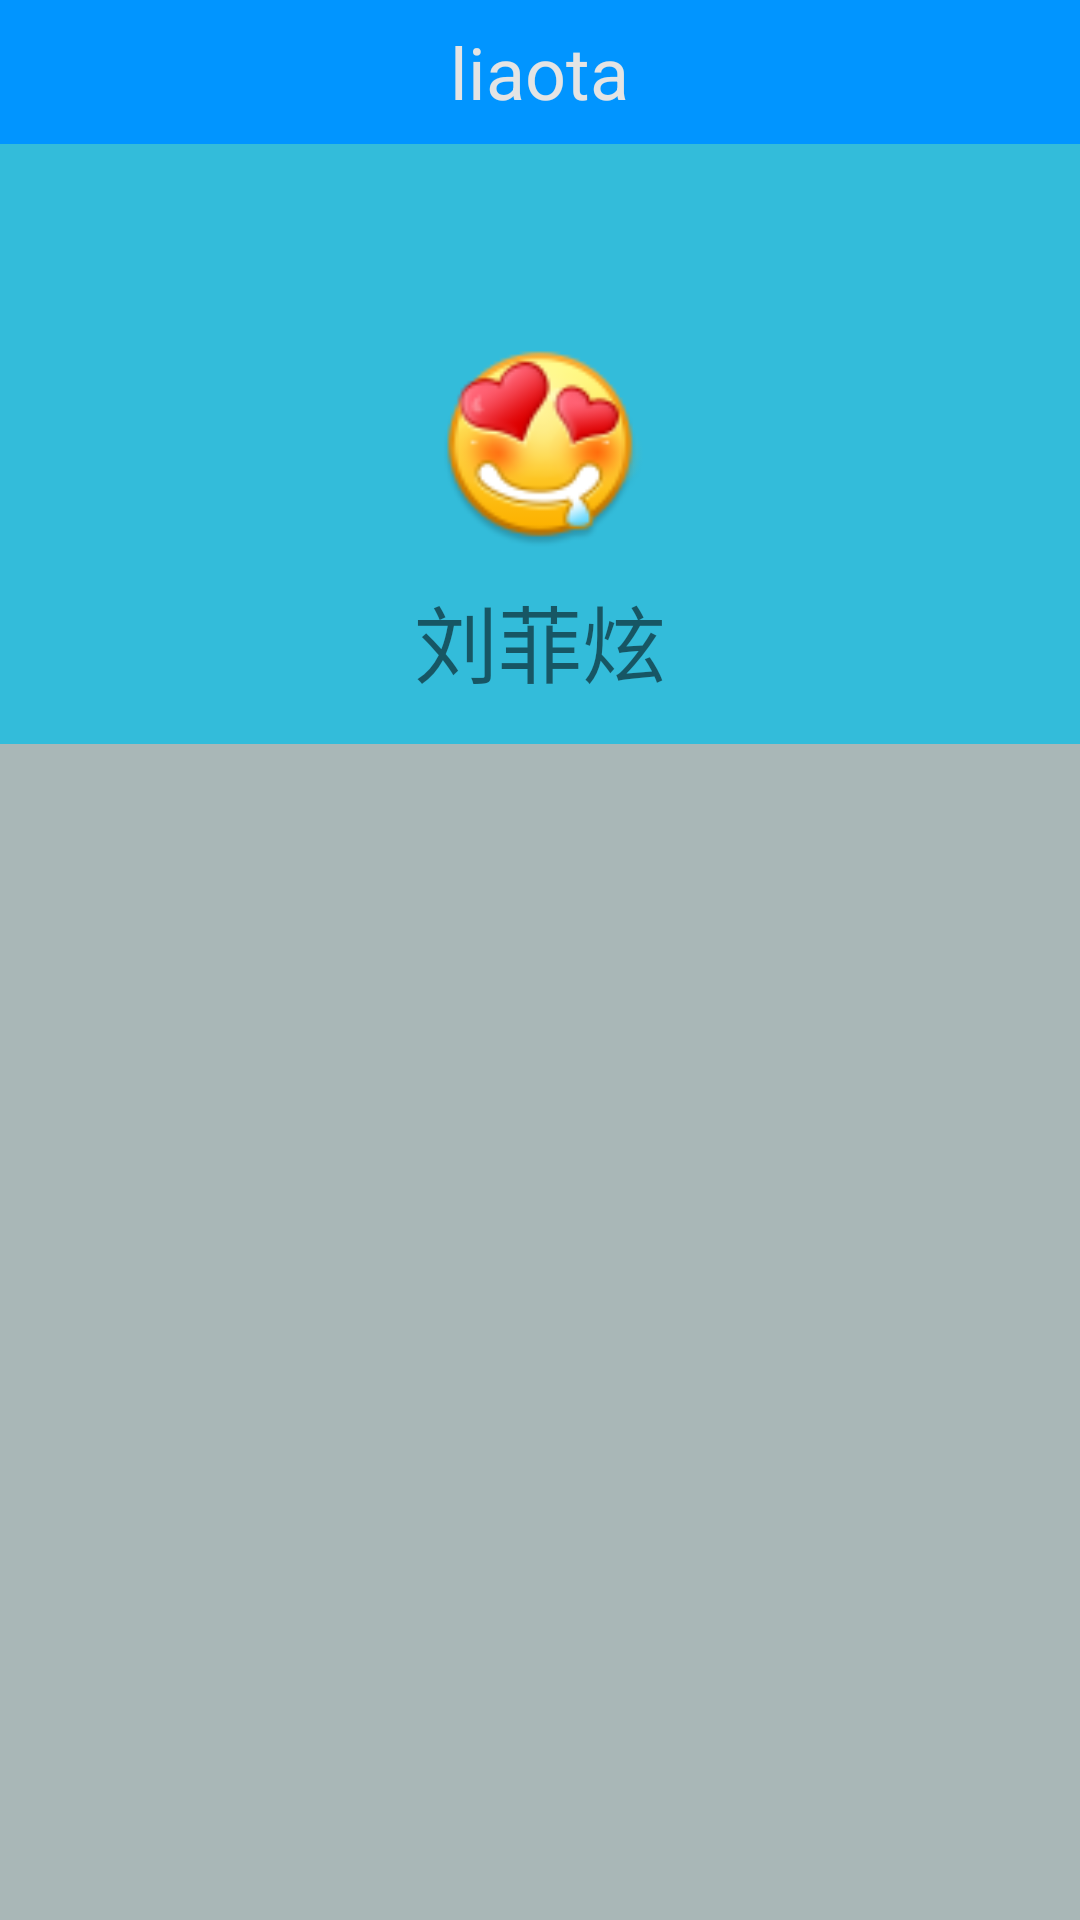

Icon bounding boxes for this 1080px x 1920px phone screenshot, format BBox(x1, y1, x2, y2):
emotion: BBox(447, 351, 634, 541)
